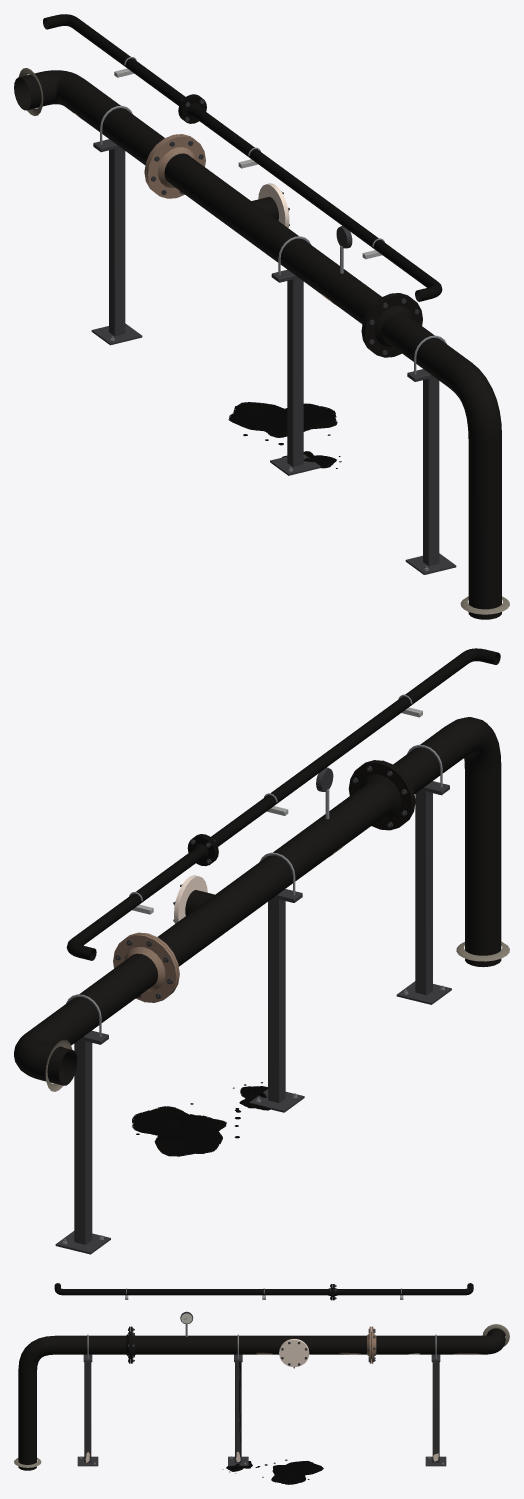
The model's file is pipe_black@1.glb.
3 renders of one model, top to bottom at view 1: azimuth 30°, elevation 25°; view 2: azimuth 150°, elevation 25°; view 3: azimuth 270°, elevation 25°, orthographic. The views are drawn at different scales.
Visible parts, largest first — view 1: teil, teil.003, teil.009, teil.004, teil.011, teil.006, teil.012, teil.001; view 2: teil, teil.003, teil.009, teil.011, teil.004, teil.012, teil.006, teil.001, teil.005; view 3: teil, teil.003, teil.009, teil.011, teil.005, teil.004, teil.001, teil.012, teil.006.
Part boxes in pixels (x1,y1,x2,y2): teil: [14, 70, 501, 619]; teil.003: [91, 99, 456, 574]; teil.009: [43, 14, 442, 301]; teil.004: [144, 134, 335, 304]; teil.011: [230, 404, 341, 468]; teil.006: [100, 57, 446, 570]; teil.012: [236, 402, 335, 464]; teil.001: [18, 68, 509, 614]; teil: [14, 717, 501, 1085]; teil.003: [55, 766, 451, 1254]; teil.009: [66, 648, 500, 960]; teil.011: [134, 1082, 269, 1156]; teil.004: [113, 846, 343, 1002]; teil.012: [151, 1089, 266, 1156]; teil.006: [62, 694, 444, 1243]; teil.001: [45, 941, 509, 1091]; teil.005: [174, 875, 207, 923]; teil: [18, 1326, 505, 1470]; teil.003: [77, 1284, 446, 1466]; teil.009: [54, 1283, 473, 1300]; teil.011: [222, 1362, 320, 1484]; teil.005: [85, 1339, 438, 1462]; teil.004: [255, 1326, 481, 1363]; teil.001: [14, 1324, 509, 1467]; teil.012: [231, 1463, 323, 1482]; teil.006: [80, 1288, 443, 1464].
Bounding box in the file's own units: 0.9329 × 2.27 × 5.77.
